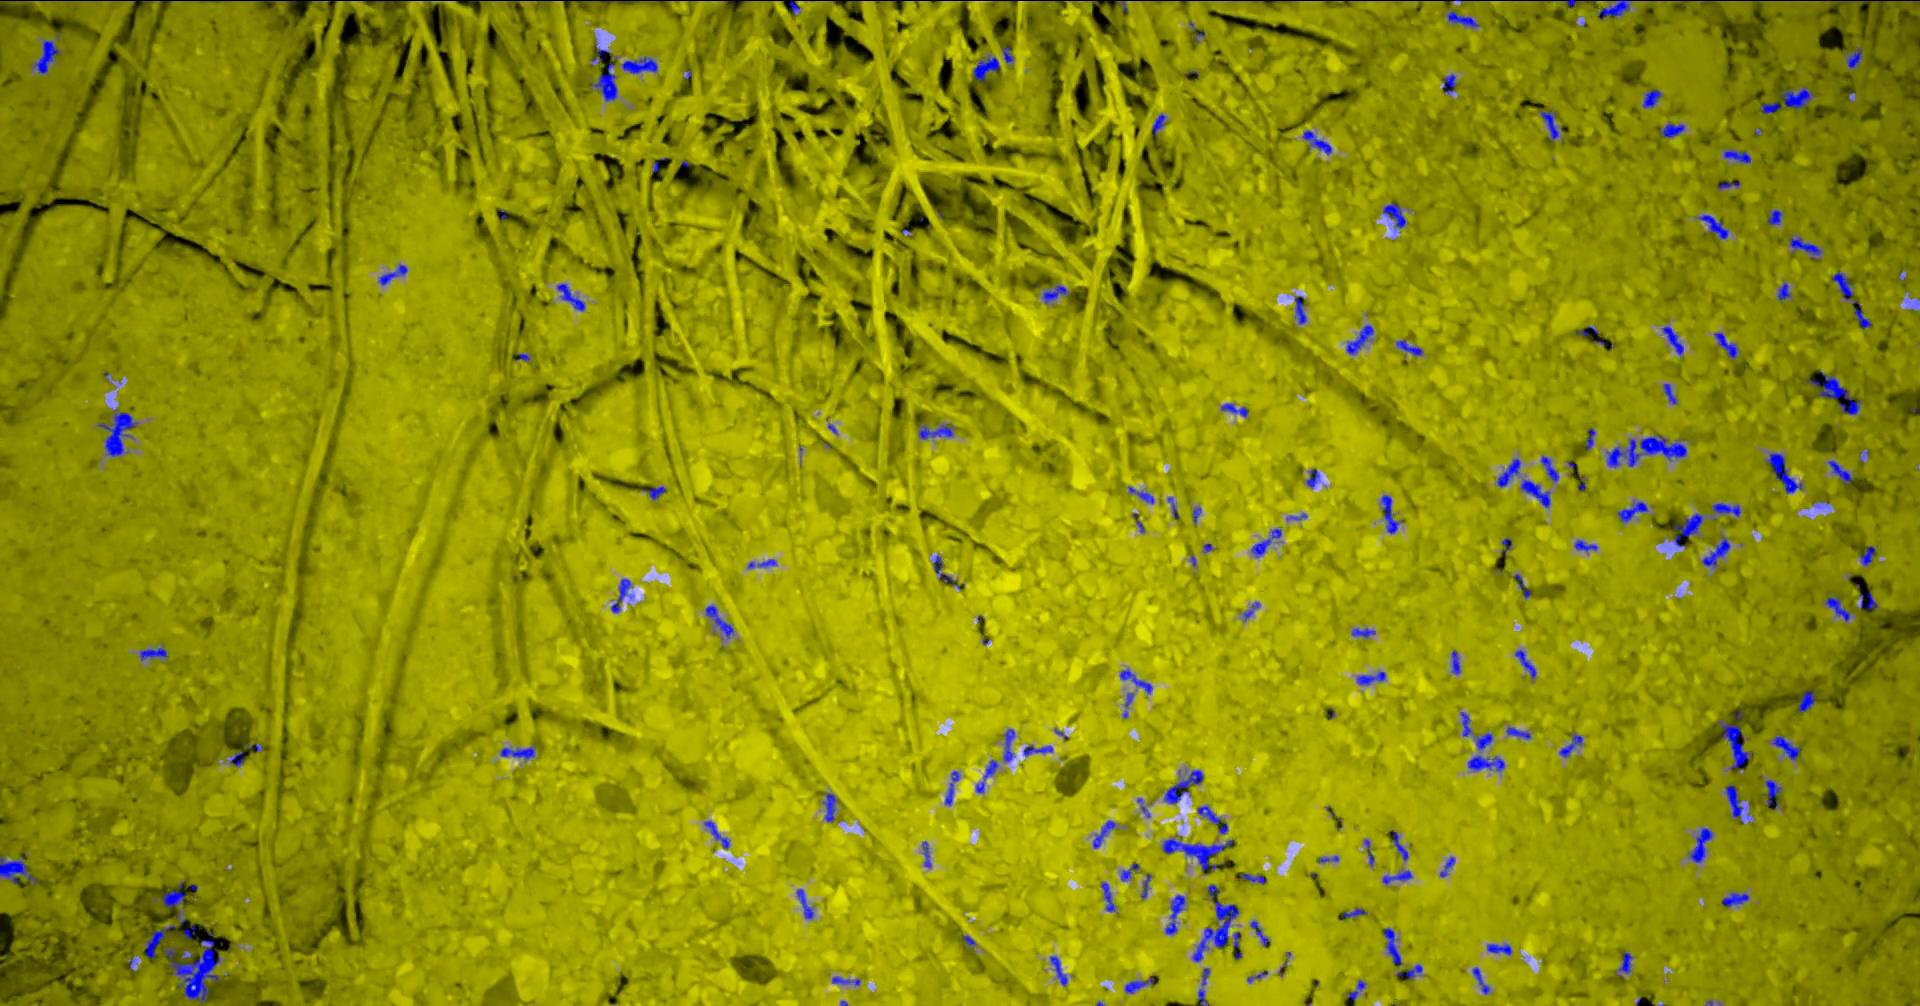ant: (1192, 884, 1238, 962), (1162, 837, 1233, 871), (1806, 370, 1860, 414), (1717, 711, 1752, 768), (97, 409, 137, 456), (1766, 452, 1802, 493), (1163, 768, 1203, 803), (590, 62, 617, 102), (143, 923, 174, 958), (1672, 513, 1703, 546), (0, 855, 36, 883), (932, 555, 960, 589), (1250, 528, 1281, 558), (705, 605, 733, 636), (1520, 479, 1550, 507), (1702, 536, 1730, 567), (34, 39, 60, 72), (1197, 805, 1227, 833), (1346, 324, 1373, 354), (1689, 827, 1712, 862), (1380, 494, 1401, 533), (1164, 894, 1185, 934), (1119, 669, 1152, 694), (1698, 213, 1728, 239), (1789, 235, 1821, 259), (1782, 86, 1815, 109), (975, 760, 998, 793), (1724, 784, 1743, 823), (971, 55, 999, 81), (556, 283, 584, 310), (610, 578, 631, 612), (703, 821, 729, 848), (1302, 130, 1331, 154), (1771, 735, 1801, 760), (1383, 927, 1401, 967), (1825, 594, 1850, 621), (1496, 459, 1520, 486), (1514, 649, 1537, 678), (1617, 500, 1647, 522), (1539, 109, 1559, 141), (1713, 332, 1737, 358), (1830, 271, 1853, 298), (1092, 821, 1115, 848), (1661, 325, 1683, 354), (1575, 325, 1605, 345), (1827, 460, 1853, 484), (1467, 754, 1503, 771), (1597, 0, 1629, 19), (378, 264, 408, 285), (621, 56, 657, 72), (1558, 733, 1582, 757), (1763, 779, 1782, 809), (161, 882, 184, 907), (918, 423, 952, 439), (1382, 203, 1404, 227), (1446, 10, 1479, 27), (943, 770, 959, 805), (1389, 829, 1407, 860), (1041, 285, 1069, 304), (1851, 300, 1870, 328), (1049, 955, 1067, 984), (1124, 976, 1153, 993), (1250, 920, 1269, 946), (796, 888, 813, 918), (1472, 967, 1490, 995), (500, 746, 535, 760), (1540, 455, 1558, 481), (1512, 573, 1530, 598), (1197, 967, 1209, 1005), (1797, 688, 1815, 713), (1100, 882, 1114, 912), (1128, 486, 1153, 503), (1710, 502, 1740, 516), (138, 647, 168, 661), (1396, 339, 1422, 354), (1396, 964, 1422, 979), (1723, 149, 1751, 163), (822, 793, 836, 821), (1721, 892, 1749, 906), (1003, 728, 1015, 761), (1220, 403, 1247, 417), (1618, 950, 1632, 977), (1356, 671, 1385, 683), (1382, 870, 1411, 883), (590, 43, 608, 64), (1347, 979, 1365, 1000), (1845, 47, 1862, 69), (1658, 123, 1684, 137), (1642, 89, 1661, 107), (1859, 591, 1877, 610), (1150, 113, 1164, 137), (1859, 545, 1876, 565), (1294, 295, 1305, 324), (1441, 72, 1457, 94), (1505, 727, 1530, 739), (1120, 862, 1138, 880), (1242, 601, 1258, 620), (1662, 384, 1677, 404), (1439, 856, 1454, 876), (641, 486, 665, 499), (1573, 539, 1597, 551), (1476, 732, 1492, 749), (1486, 942, 1511, 954), (1460, 711, 1472, 735), (921, 841, 931, 868), (1238, 873, 1265, 883), (1777, 282, 1790, 301), (1305, 467, 1319, 486), (1140, 873, 1150, 898), (747, 559, 775, 568), (1023, 746, 1051, 754), (830, 976, 858, 984), (1123, 692, 1133, 716), (1001, 44, 1013, 64), (1760, 102, 1779, 114), (1766, 210, 1782, 225), (229, 749, 243, 766), (1585, 427, 1595, 448), (1351, 627, 1375, 636), (1451, 650, 1460, 674), (1342, 908, 1366, 917), (1717, 180, 1740, 189), (1564, 0, 1595, 6), (183, 925, 196, 937), (1501, 537, 1511, 553), (563, 0, 640, 1), (1830, 0, 1888, 1)
